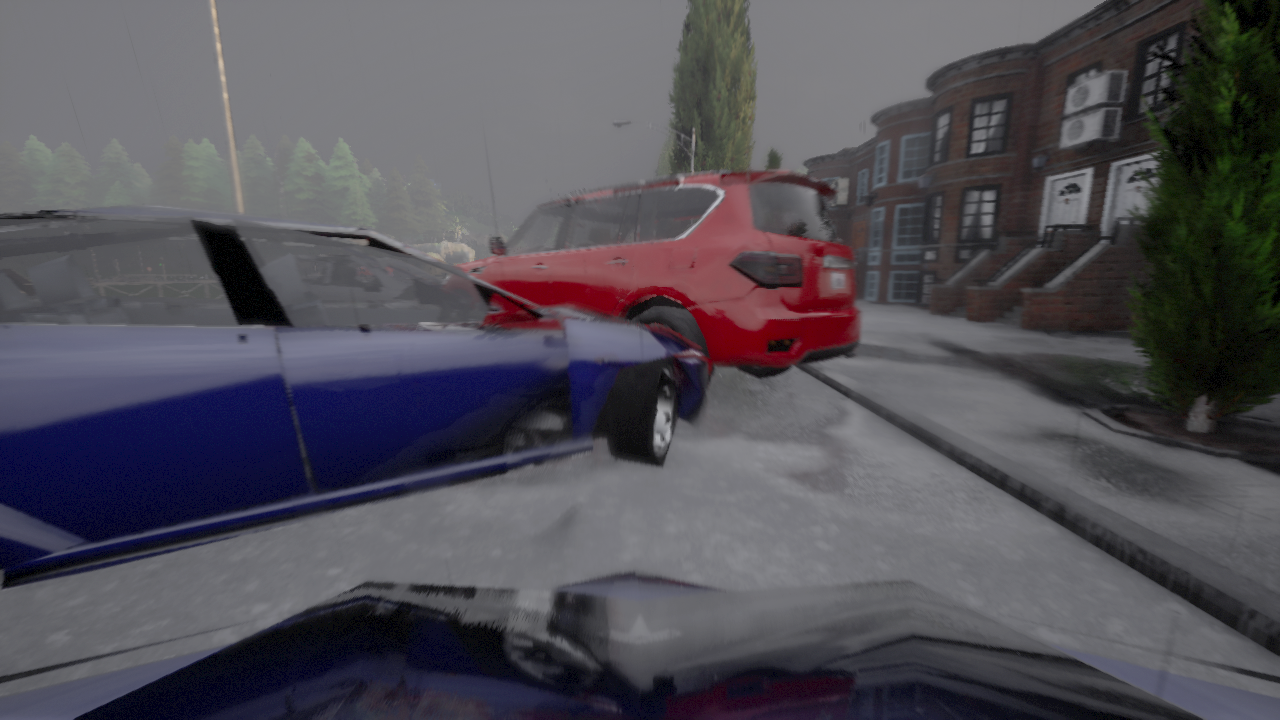cyclist: (0, 204, 711, 590), (0, 569, 1279, 719), (459, 169, 862, 387)
